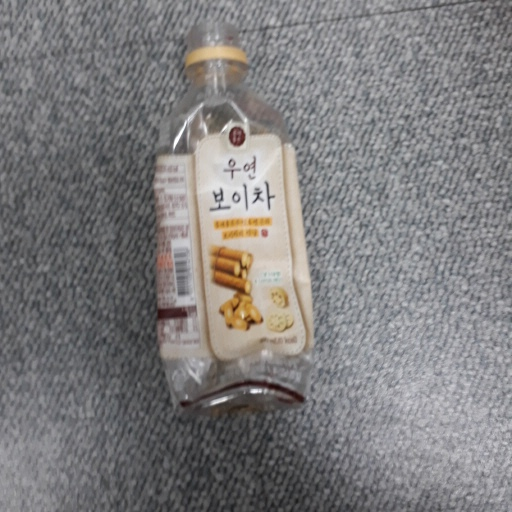Plastic_0: (146, 24, 318, 421)
